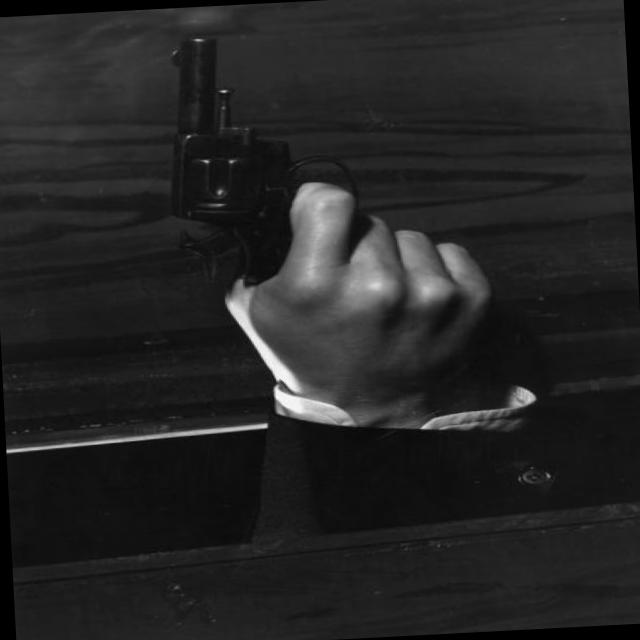handgun: (163, 26, 363, 312)
